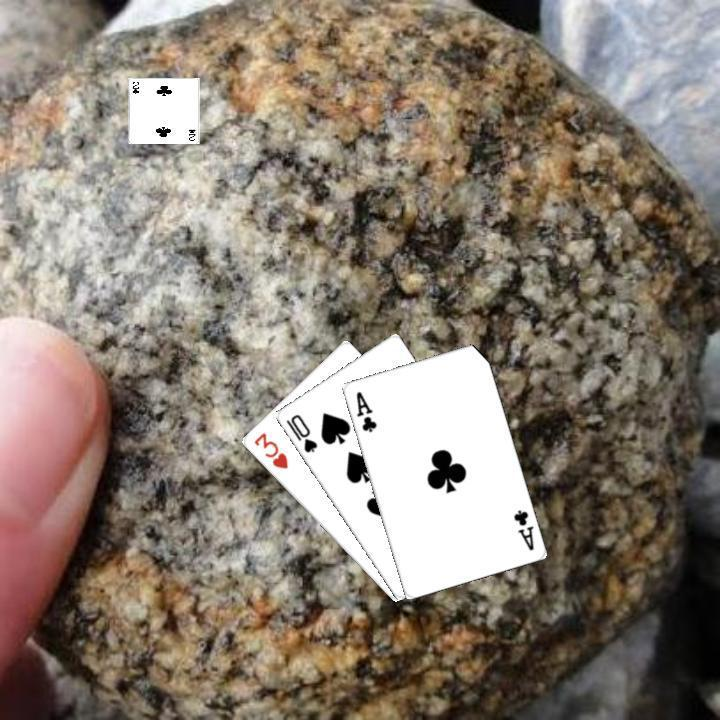10: (281, 410, 319, 455)
3: (249, 428, 290, 471)
A: (351, 387, 378, 434), (509, 505, 536, 552)
